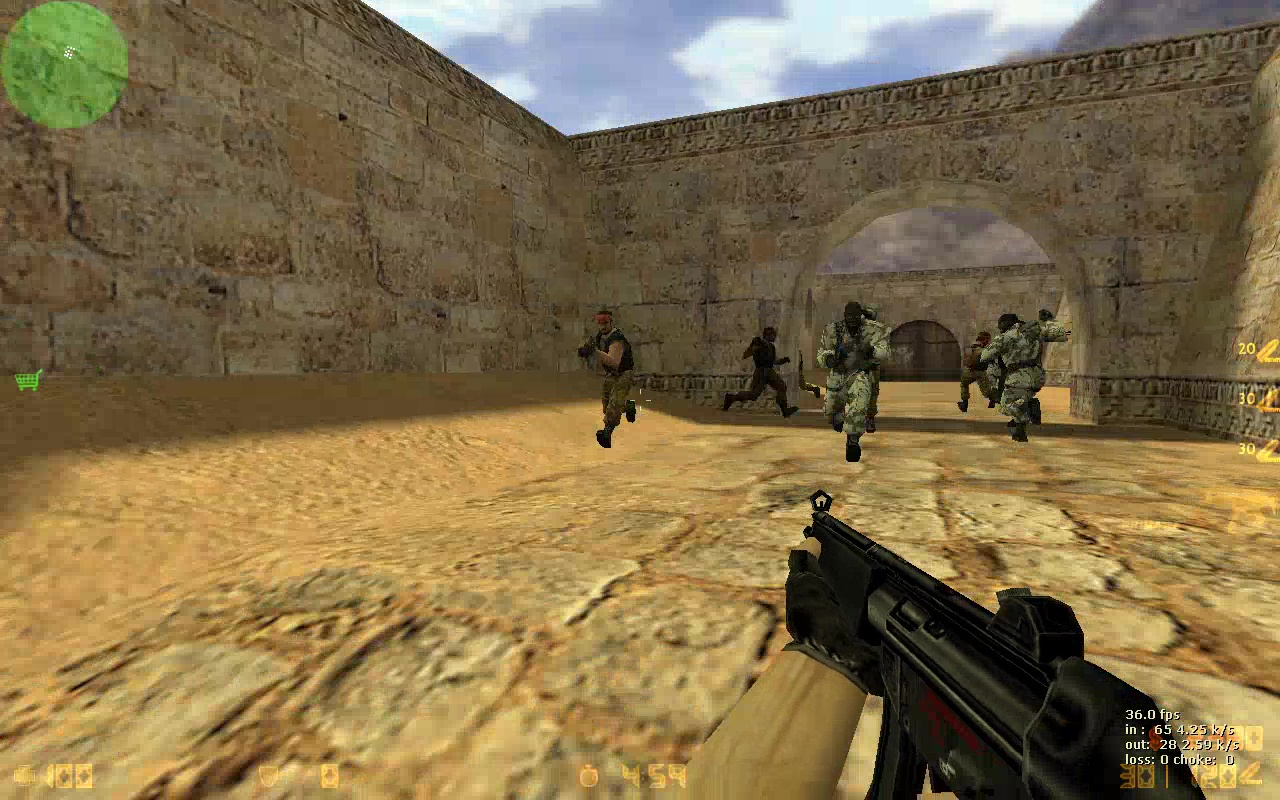terr1: (578, 311, 644, 450), (721, 329, 804, 420), (962, 334, 991, 415)
terr2: (814, 299, 889, 459), (978, 309, 1068, 441)
